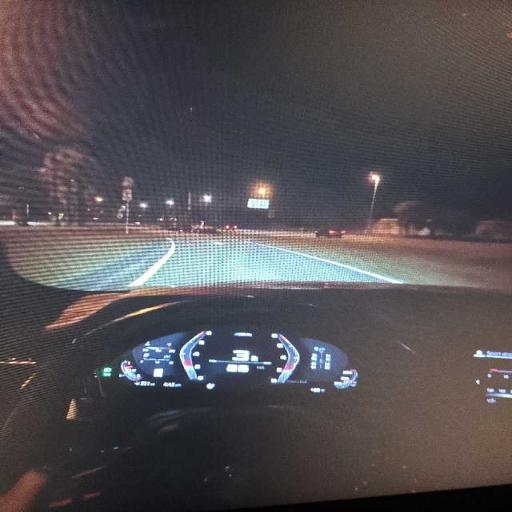car: (0, 0, 511, 511), (191, 221, 222, 234), (315, 228, 346, 237), (223, 224, 237, 231)
lane: (4, 230, 511, 291), (145, 239, 384, 286), (254, 242, 403, 283)
person: (0, 471, 47, 511)
